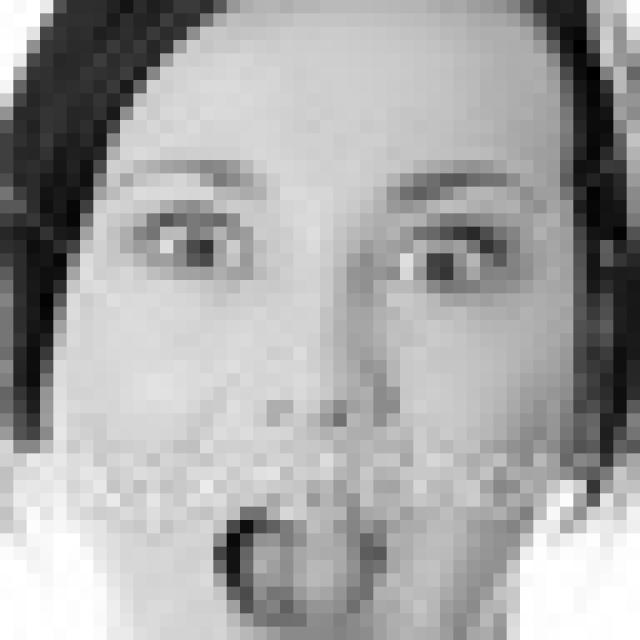surprise: (111, 149, 560, 640)
